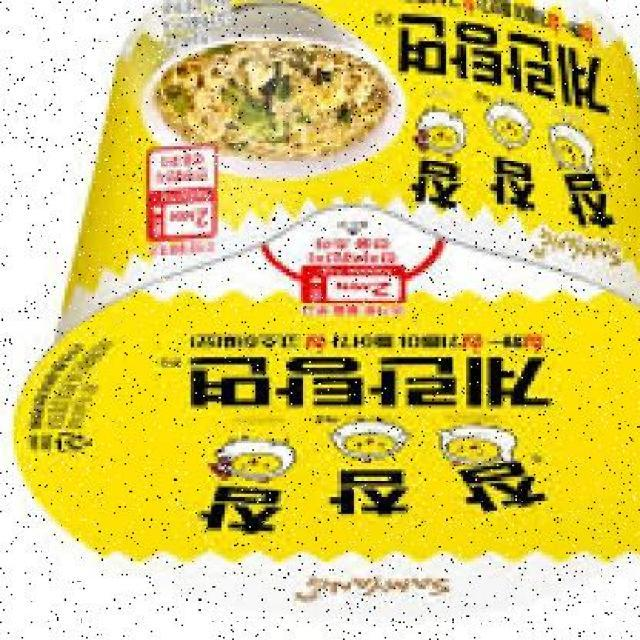Miscellaneous: (3, 0, 640, 620)
